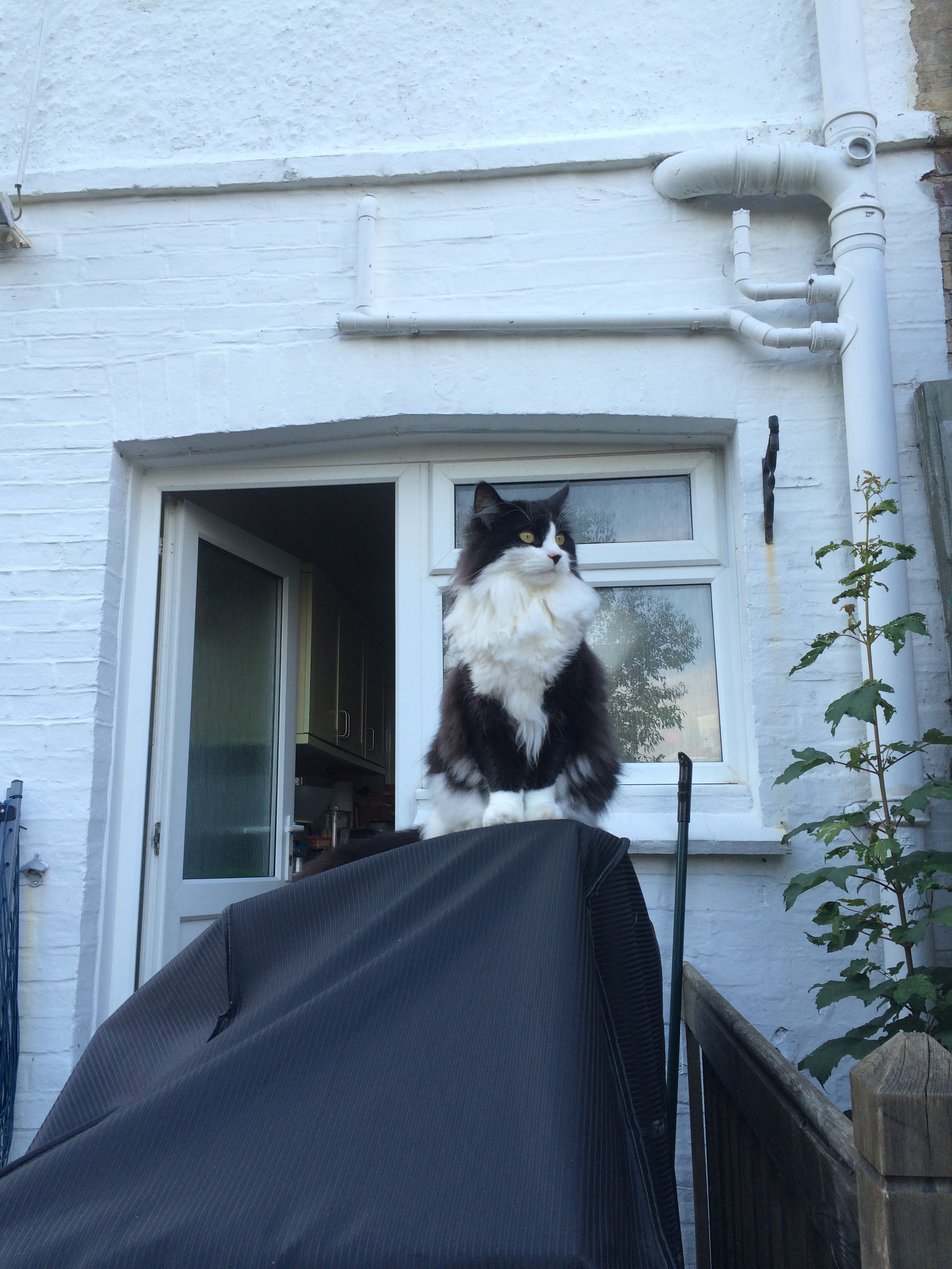cat: (356, 441, 628, 705)
